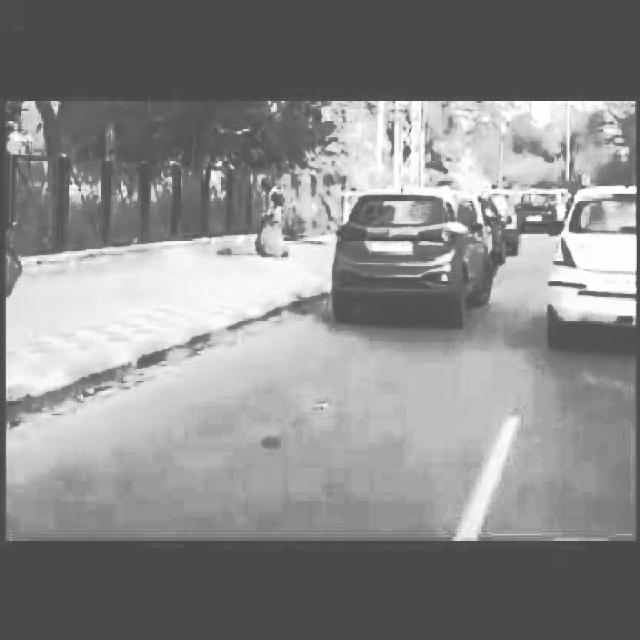Car: (331, 169, 485, 332), (557, 188, 638, 343), (514, 180, 554, 231)
